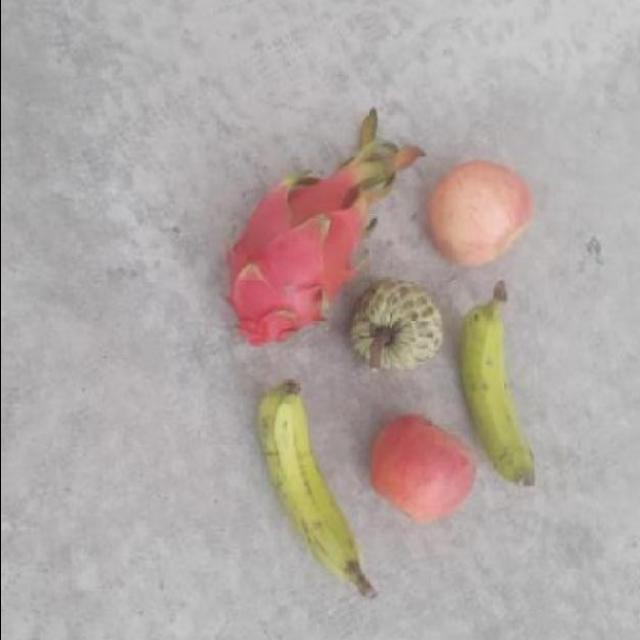apple: (366, 412, 481, 528), (428, 160, 537, 270)
banana: (252, 374, 380, 586), (454, 300, 552, 490)
dragon fruit: (219, 170, 366, 349)
sugar apple: (344, 279, 444, 380)
